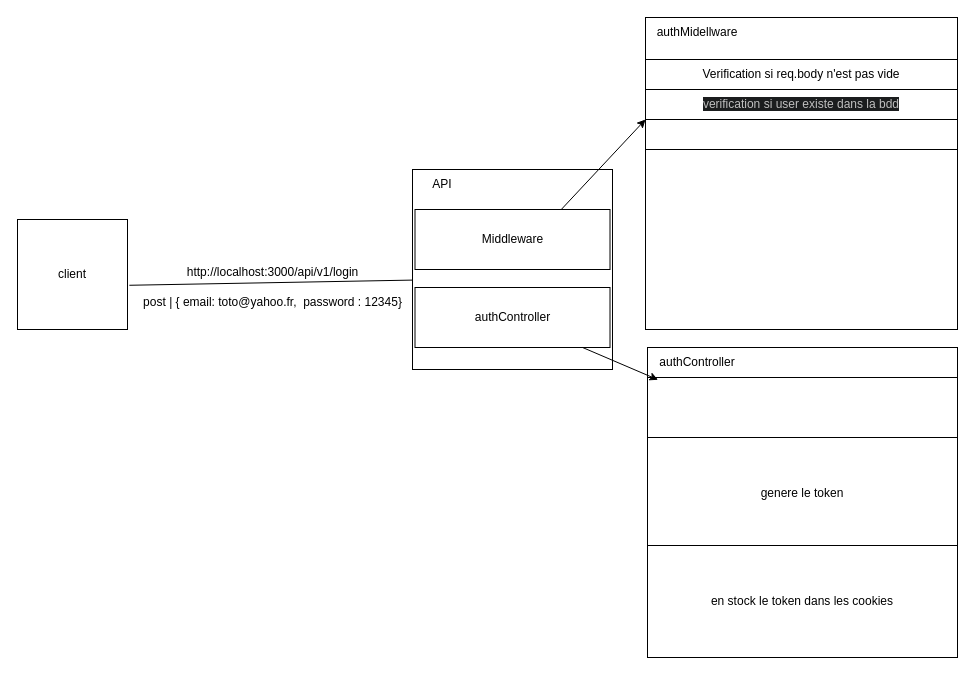
Some shapes in this 975 by 675 pixel diagram are drawn without their labels. The shapes that lost their labels are listed below. From the top down, each one's centre as x and y in pixels, then its label:
At point (801, 134): "verification si les deux password sont identiques".
At point (801, 239): "Next()".
At point (802, 407): "reçoit les identifiants de user dans req.body".
